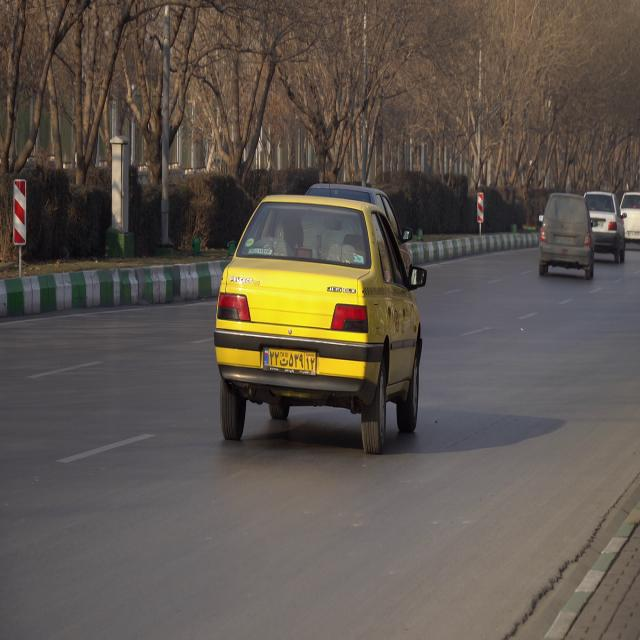car: (215, 197, 425, 451), (538, 191, 595, 277), (582, 191, 624, 255)
